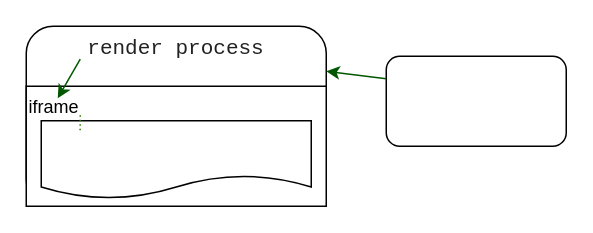
Image size: 593x233. Some labels were removed from this diagram. The shapes that lost their labels are listed below. From the top down, each one's centre as x and y in pixels, then its label:
At [475,100]: "main process".
At [175,159]: "Flask HTML".
